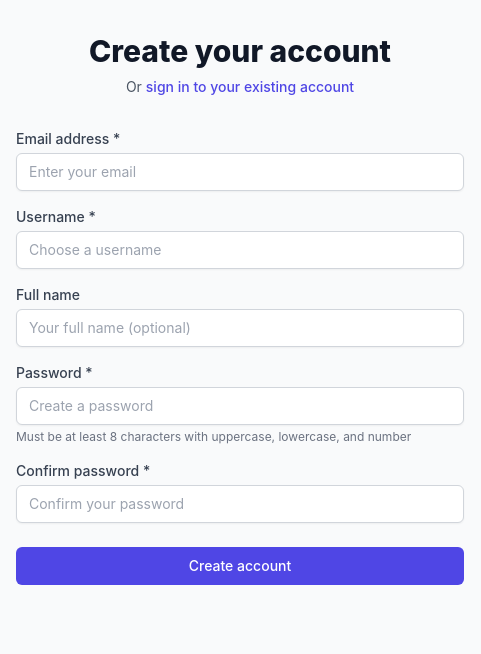
Scenario: Register Page › should show error message on registration failure
The width and height of the screenshot is (481, 654).
Type "test@example.com" into the field with placeholder "Enter your email" at (240,172), box x1=16 y1=153 x2=464 y2=191
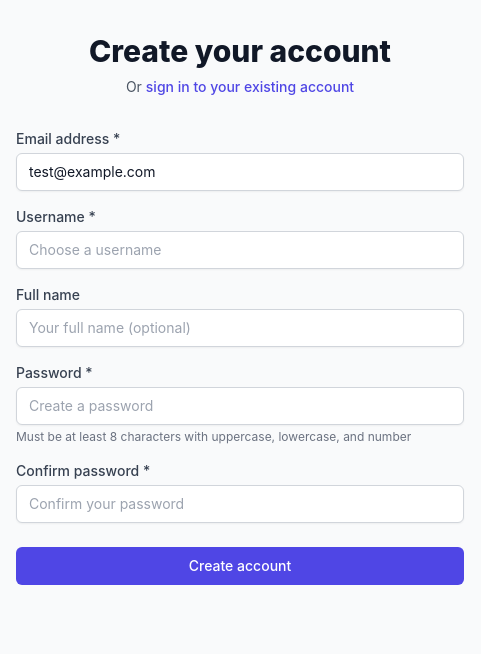
Type "testuser" into the field with placeholder "Choose a username" at (240,250), box x1=16 y1=231 x2=464 y2=269
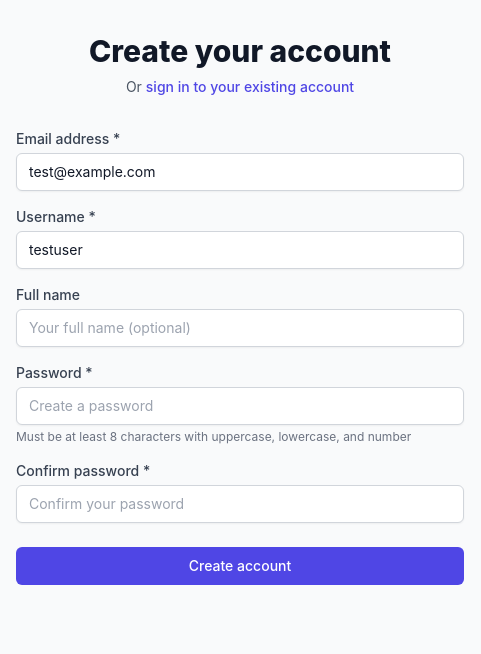
Type "Password123!" into the password field with placeholder "Create a password" at (240,406), box x1=16 y1=387 x2=464 y2=425
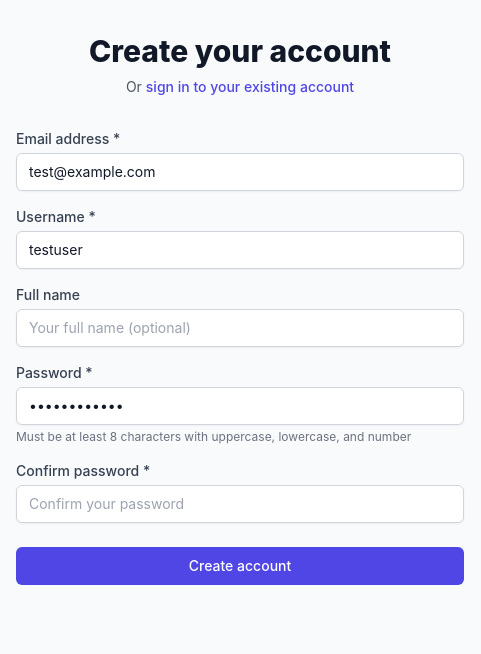
Type "Password123!" into the password field with placeholder "Confirm your password" at (240,504), box x1=16 y1=485 x2=464 y2=523
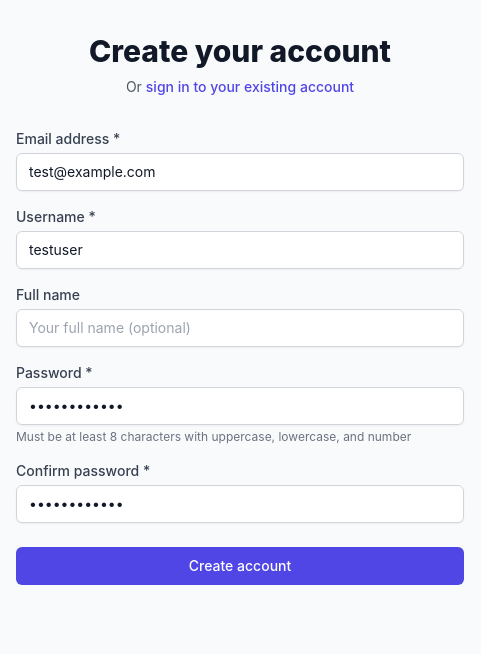
Click the button "Create account" at (240,566), box x1=16 y1=547 x2=464 y2=585
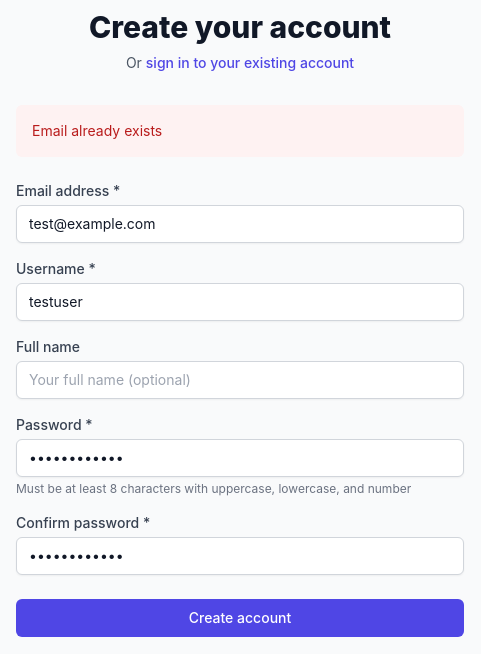
Expected: the text "Email already exists" is shown, x1=32 y1=122 x2=162 y2=139
